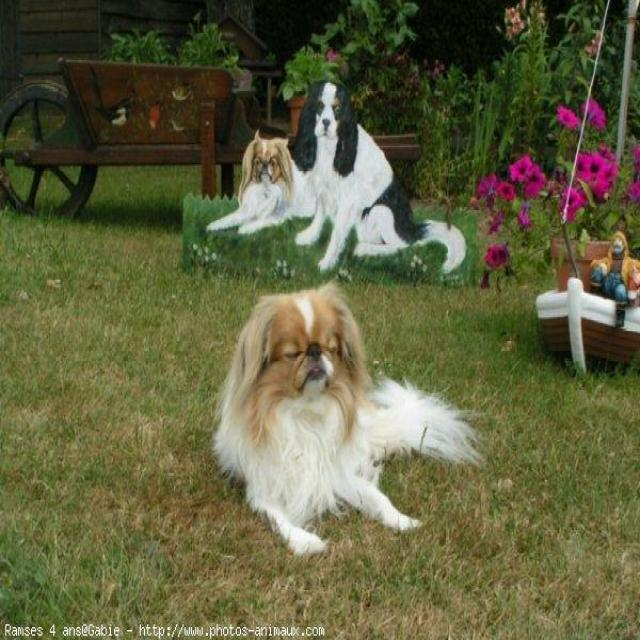husky: (210, 280, 480, 556), (291, 81, 467, 270), (203, 129, 321, 237)
